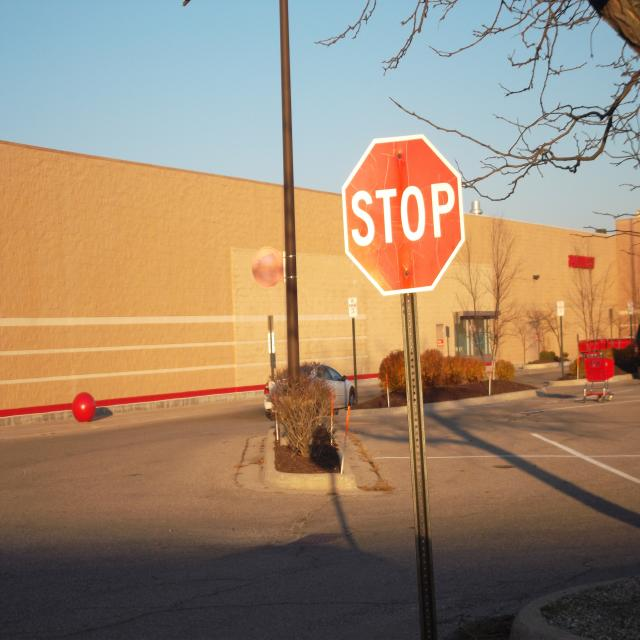regulatory: (347, 296, 358, 319)
stop: (341, 135, 468, 297)
